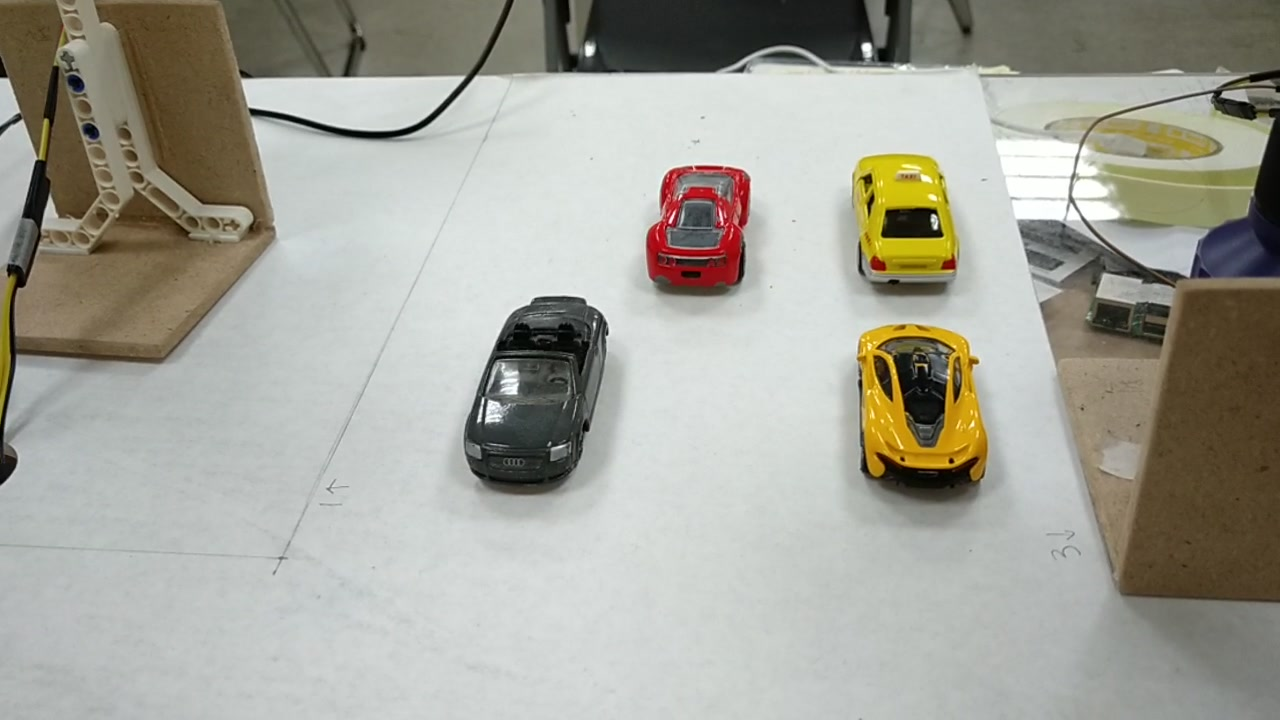car: (464, 299, 616, 476), (857, 326, 973, 490), (649, 163, 755, 286), (857, 154, 953, 278)
